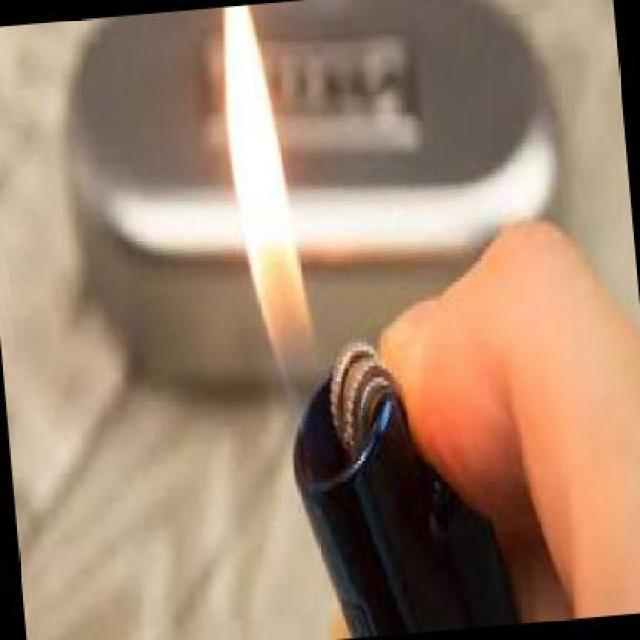Fire: (213, 0, 343, 414)
